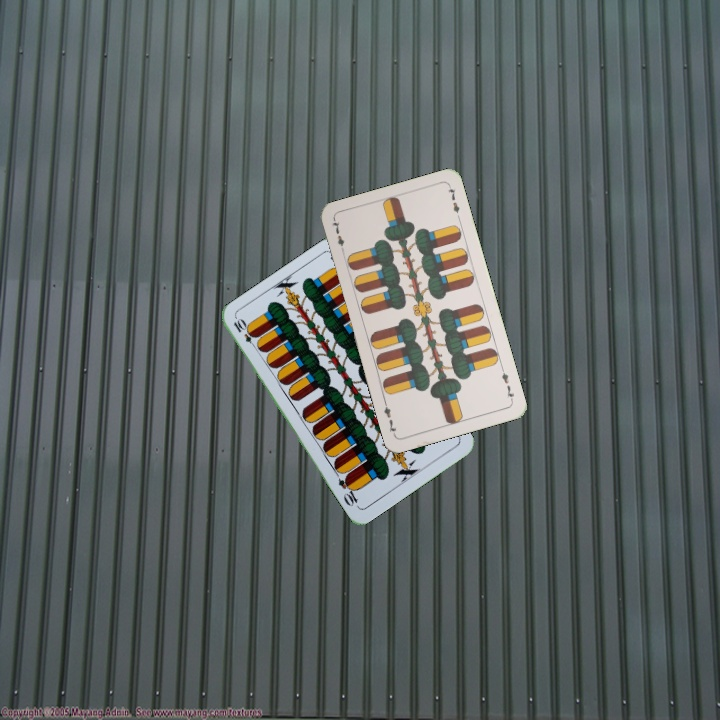E10: (229, 315, 260, 352)
E7: (497, 364, 516, 404), (328, 216, 347, 256)
